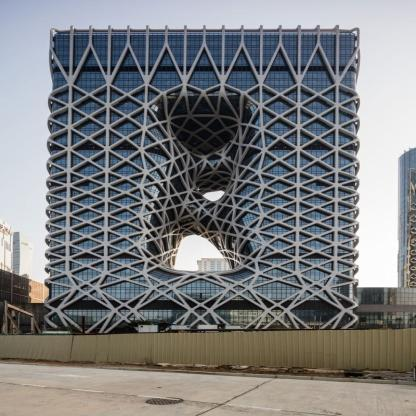Building Outline: (43, 25, 416, 334)
Decorative Shell: (49, 25, 112, 78)
Dont: (0, 315, 416, 372), (146, 95, 257, 277)
Facade: (49, 32, 355, 334)
Floor: (49, 289, 355, 300), (49, 50, 355, 57), (49, 80, 355, 86), (49, 87, 355, 93), (49, 102, 355, 108), (49, 109, 355, 115), (49, 130, 355, 136), (49, 159, 355, 165), (49, 173, 355, 179), (49, 188, 355, 194), (49, 195, 355, 201), (49, 209, 355, 215), (49, 224, 355, 230), (49, 231, 355, 237), (49, 253, 355, 259), (49, 267, 355, 273), (49, 59, 355, 64), (49, 67, 355, 72), (49, 73, 355, 78), (49, 95, 355, 100), (49, 117, 355, 122), (49, 124, 355, 129), (49, 138, 355, 143), (49, 145, 355, 150), (49, 152, 355, 157), (49, 167, 355, 172), (49, 181, 355, 186), (49, 203, 355, 208), (49, 217, 355, 222), (49, 239, 355, 244), (49, 246, 355, 251), (49, 261, 355, 266), (49, 275, 355, 280), (49, 282, 355, 287)
Floor Slab: (49, 280, 355, 282), (49, 273, 355, 275), (49, 251, 355, 253), (49, 244, 355, 246), (49, 215, 355, 217), (49, 150, 355, 152), (49, 136, 355, 138), (49, 93, 355, 95), (49, 78, 355, 80), (49, 57, 355, 59), (49, 288, 355, 289), (49, 266, 355, 267), (49, 259, 355, 260), (49, 237, 355, 238), (49, 230, 355, 231), (49, 222, 355, 223), (49, 208, 355, 209), (49, 201, 355, 202), (49, 194, 355, 195), (49, 186, 355, 187), (49, 179, 355, 180), (49, 172, 355, 173), (49, 165, 355, 166), (49, 158, 355, 159), (49, 143, 355, 144), (49, 129, 355, 130), (49, 122, 355, 123), (49, 115, 355, 116), (49, 108, 355, 109), (49, 100, 355, 101), (49, 86, 355, 87), (49, 300, 355, 301), (49, 72, 355, 73), (49, 65, 355, 66), (49, 48, 355, 49)
Glass Wall: (49, 32, 355, 334)
Ground Floor: (49, 301, 355, 334)
Top Floor: (49, 32, 355, 48)
